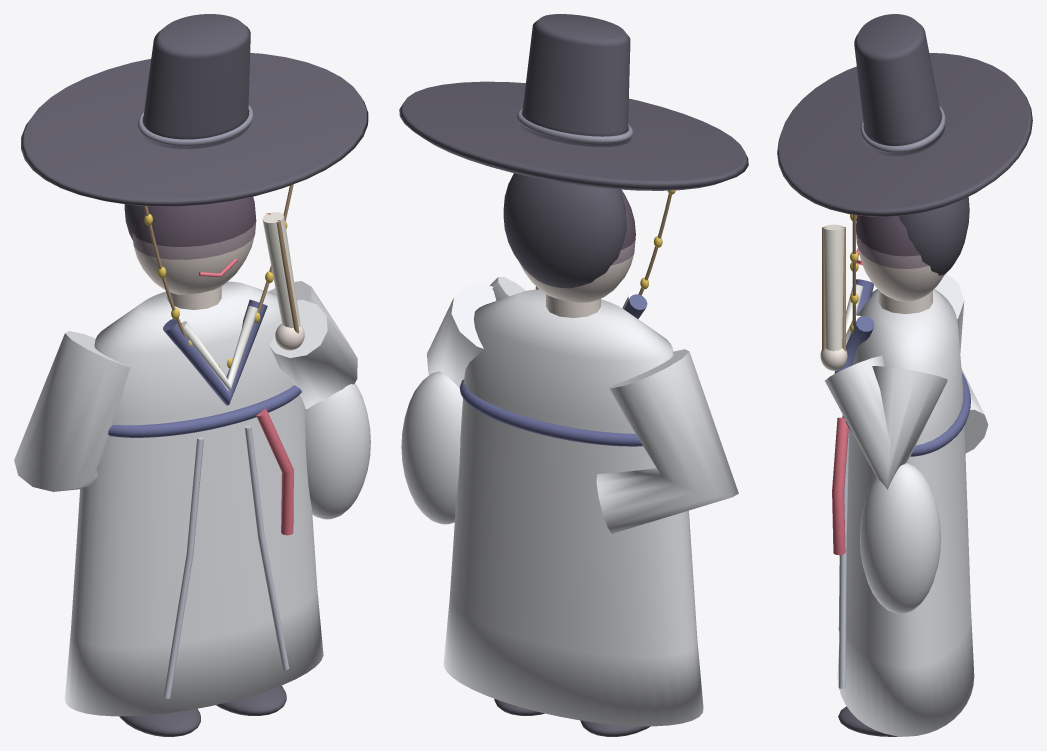
The model's file is conch_jeonwoochi_closed_behind_0_0.glb.
3 renders of one model, left to right at view 1: azimuth 30°, elevation 25°; view 2: azimuth 150°, elevation 25°; view 3: azimuth 270°, elevation 25°, orthographic.
Size of the model in its own units: 28.25 by 55.23 by 18.85.
